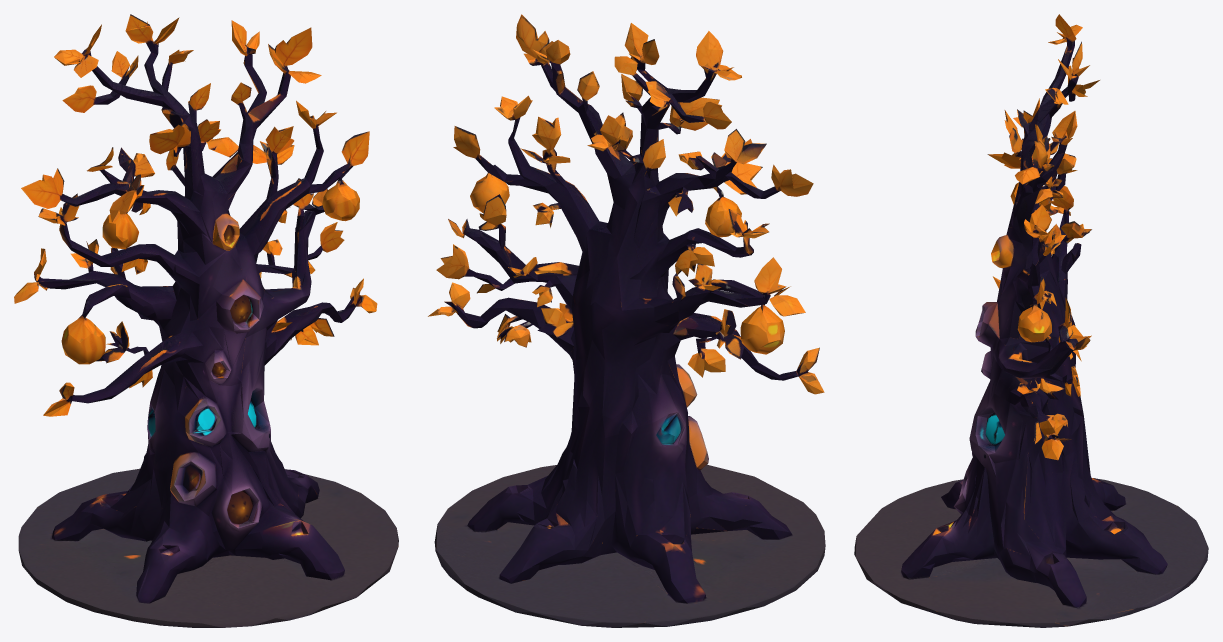
Rendered from hw-tree.glb.
3 renders of one model, left to right at view 1: azimuth 30°, elevation 25°; view 2: azimuth 150°, elevation 25°; view 3: azimuth 270°, elevation 25°, orthographic. The views are drawn at different scales.
Bounding box in the file's own units: 1.36 × 1.9 × 1.23.
1 material, 1 textured.
